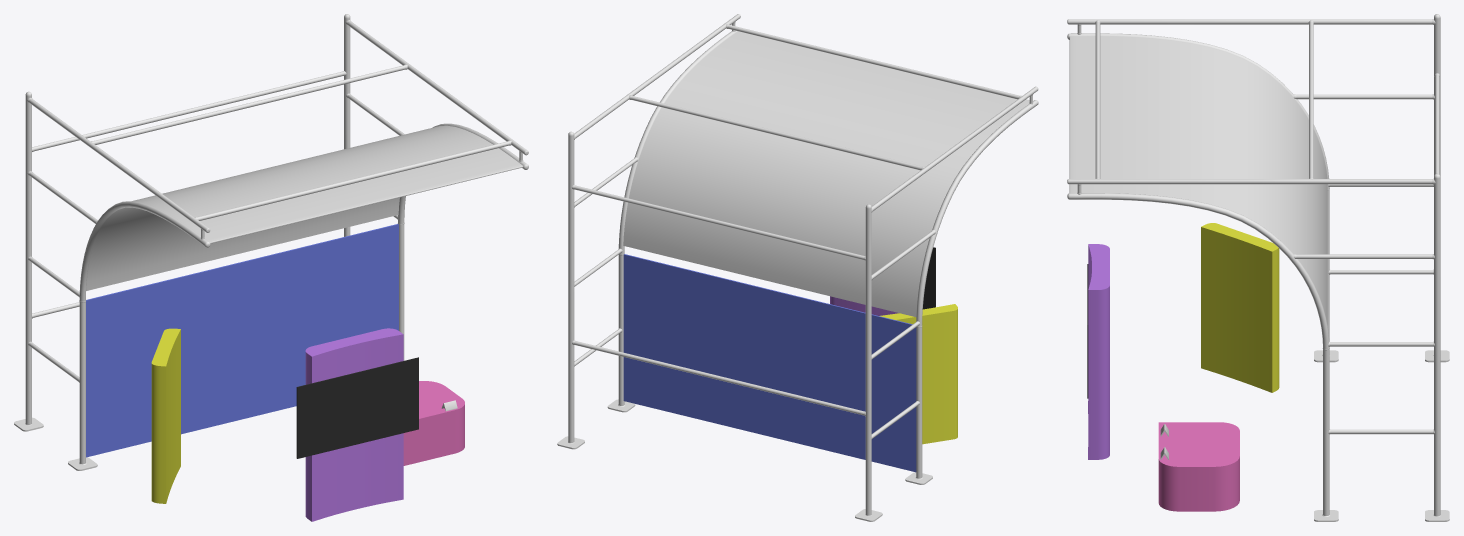
The picture shows the model from 3 angles, left to right: view 1: azimuth 30°, elevation 25°; view 2: azimuth 150°, elevation 25°; view 3: azimuth 270°, elevation 25°; orthographic projection. The views are drawn at different scales.
Visible parts, largest first — view 1: Bottom, Top, Post, Monitor_Support, monitor, Poster_Support, Item_Support; view 2: Top, Bottom, Post, Poster_Support, monitor; view 3: Top, Post, Poster_Support, Item_Support, Monitor_Support.
Part boxes in pixels (x1,y1,x2,y2): Bottom: (86,224,398,457); Top: (86,125,523,290); Post: (14,14,528,470); Monitor_Support: (305,328,403,521); monitor: (296,357,418,458); Poster_Support: (151,328,180,503); Item_Support: (403,381,464,465); Top: (623,31,1029,316); Bottom: (623,254,916,472); Post: (557,14,1038,521); Poster_Support: (879,304,957,444); monitor: (922,247,935,309); Top: (1069,36,1327,324); Post: (1067,14,1449,521); Poster_Support: (1201,223,1279,392); Item_Support: (1158,422,1239,511); Monitor_Support: (1088,244,1109,459).
Size of the model in its own units: 490 by 460 by 465.
